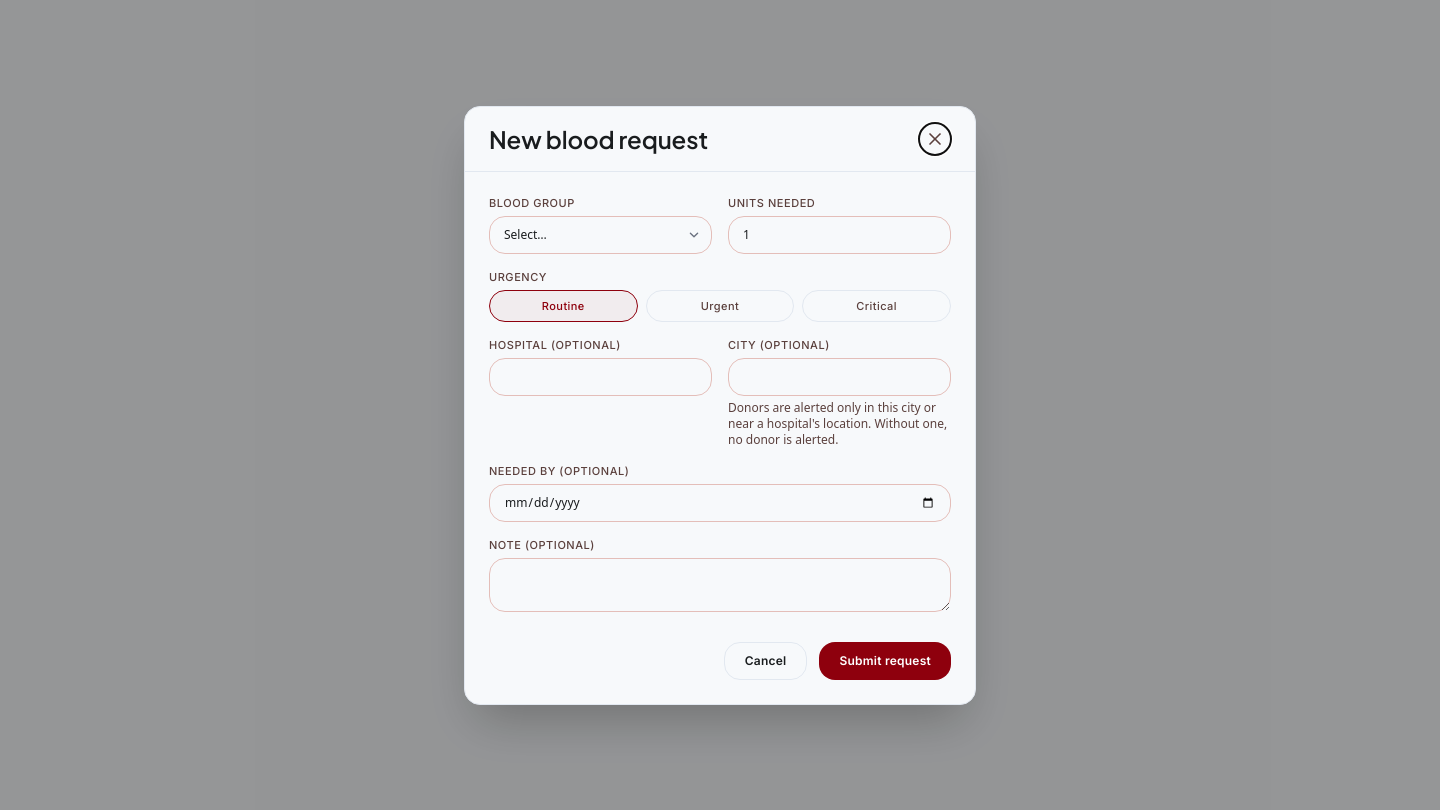
Test case: BloodRequestModal › surfaces a real 403 honestly -- it never looks like a successful submission
The width and height of the screenshot is (1440, 810).
Select "O-" in the dropdown labelled "Blood group" at (600, 234), box x1=489 y1=216 x2=712 y2=254
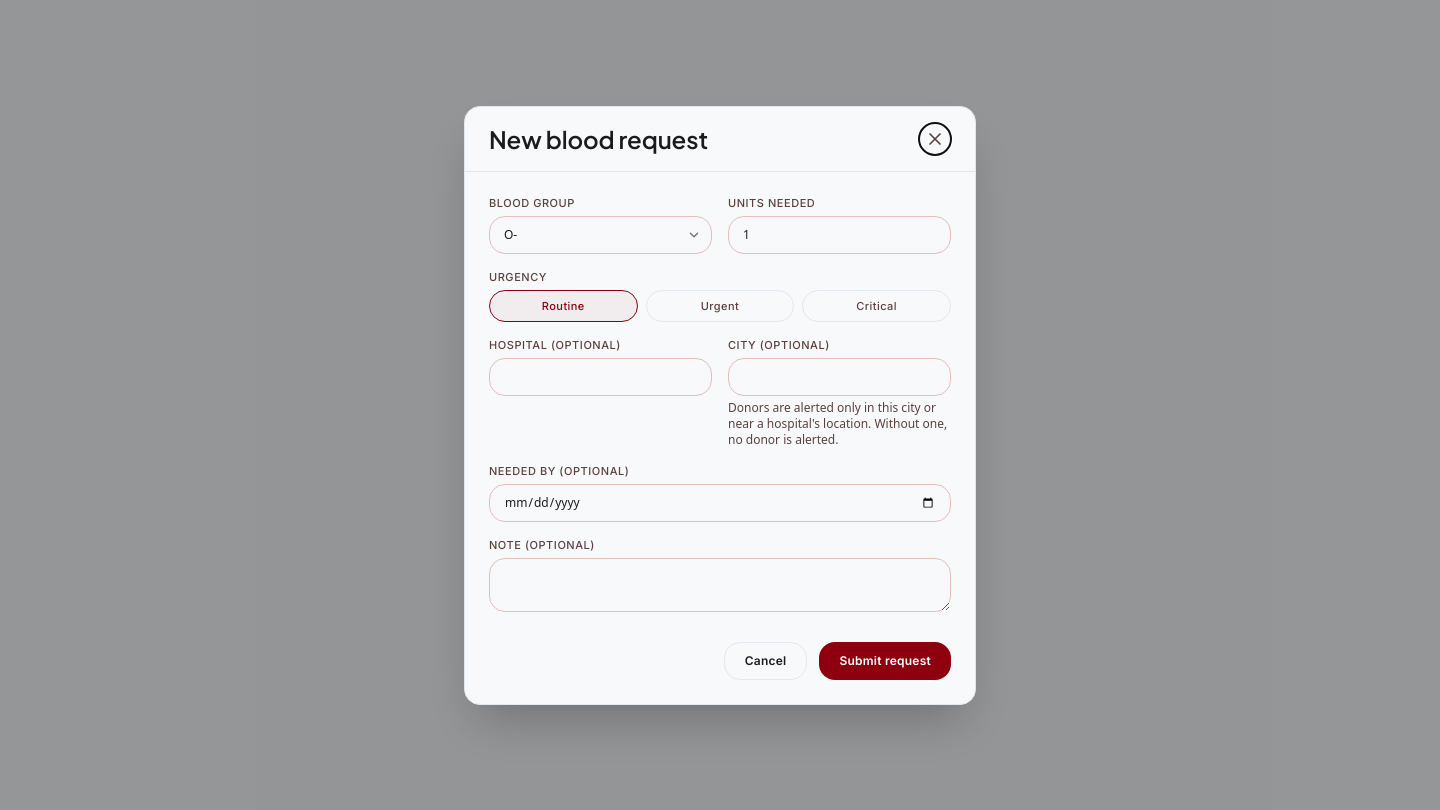
Click the button "Submit request".
click(885, 660)  # box x1=819 y1=642 x2=951 y2=680
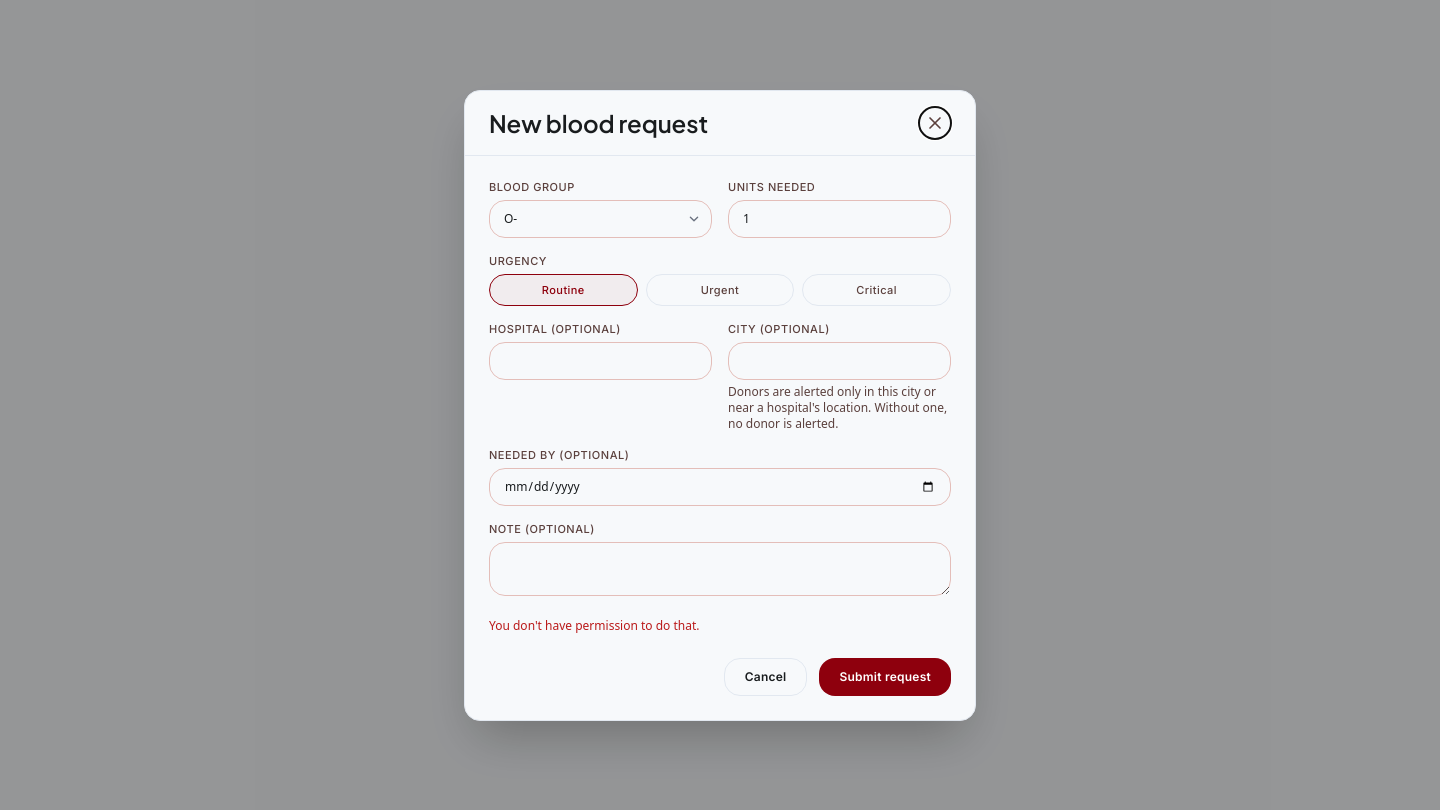
expect the text "You don't have permission to do that." is shown: met, box x1=489 y1=616 x2=700 y2=634
